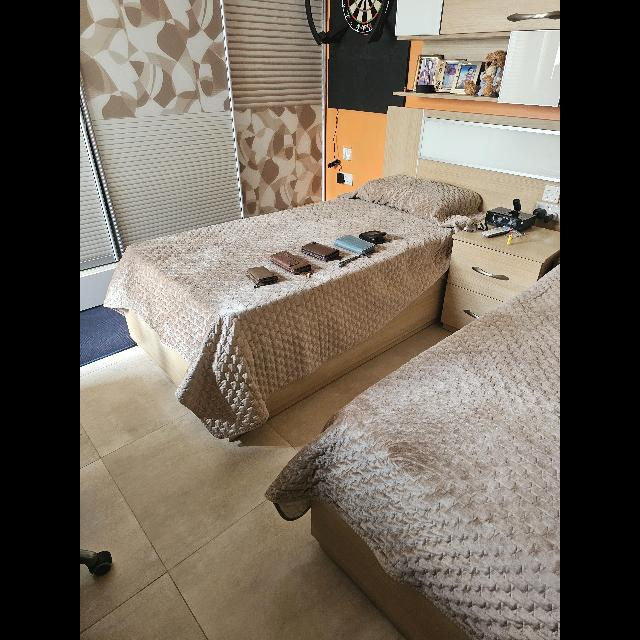Sunglasses: (464, 223, 488, 233)
Wallet: (270, 250, 312, 276), (335, 234, 377, 256), (300, 242, 338, 262), (246, 266, 278, 288), (358, 230, 388, 244)
